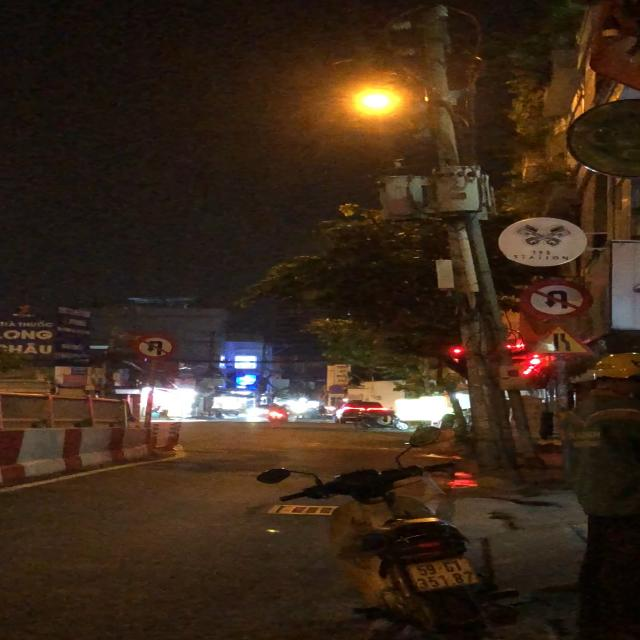Bien bao cam quay dau xe: (518, 274, 591, 317), (128, 332, 182, 361)
Bien bao duong bi thu hep: (523, 322, 605, 358)
